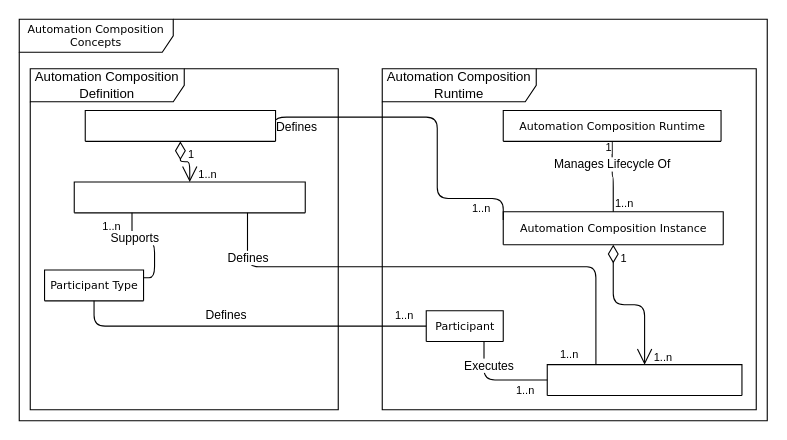
Image size: 787x440. Some labels were removed from this diagram. The centre of each missing label's shape, as x and y in pixels:
Automation Composition Element: the point at 644,379
Automation Composition Element Type: the point at 189,197
AUtomation Composition Type: the point at 180,125
